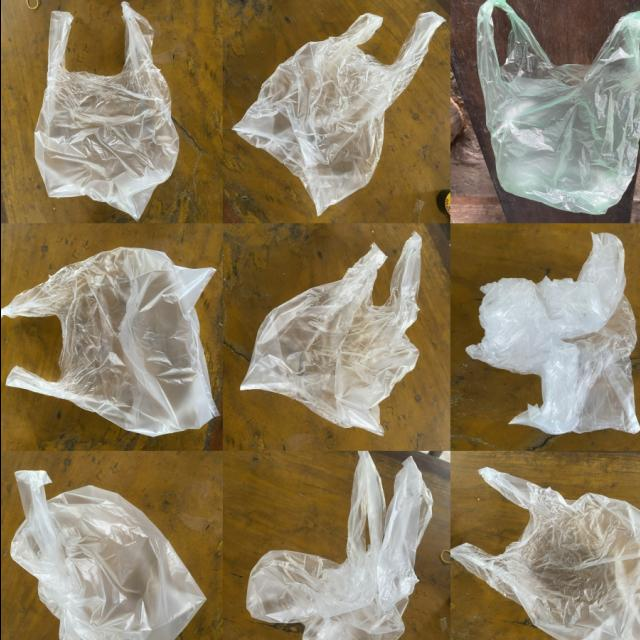plastik: (232, 12, 443, 214), (0, 248, 217, 436), (240, 233, 420, 436), (476, 0, 640, 214), (245, 452, 431, 640), (465, 234, 638, 434), (9, 470, 205, 640), (450, 468, 640, 640), (34, 2, 178, 220)
